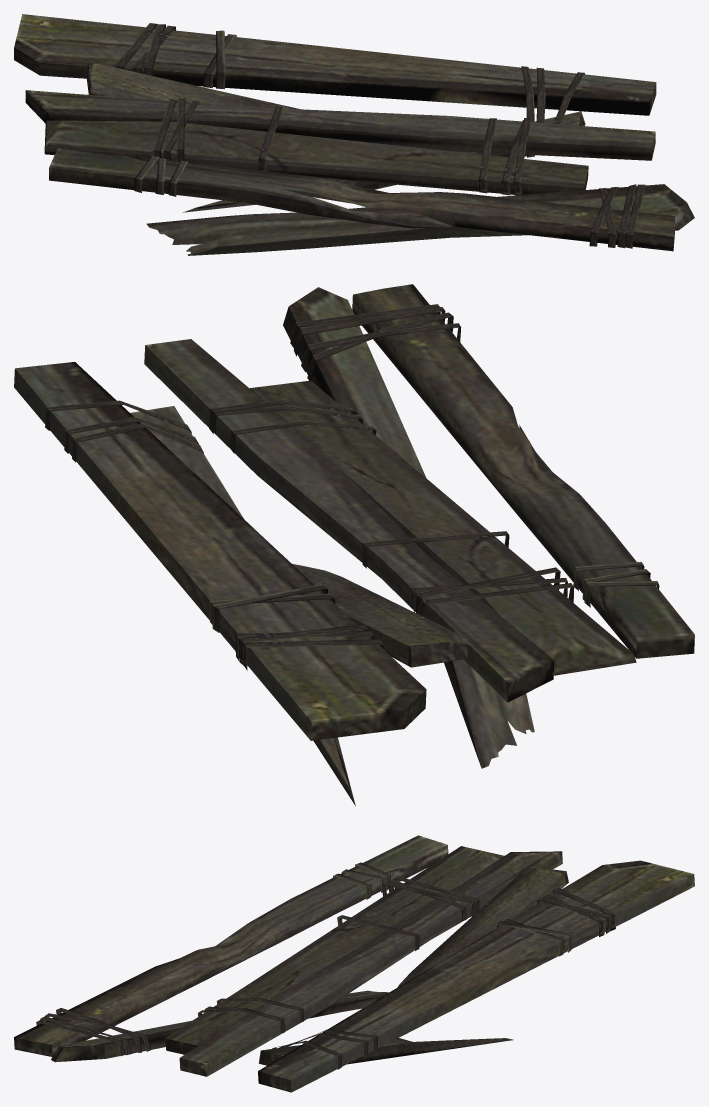
Rendered from 4007_Item_wuqi_5.FBX.
3 renders of one model, top to bottom at view 1: azimuth 30°, elevation 25°; view 2: azimuth 150°, elevation 25°; view 3: azimuth 270°, elevation 25°, orthographic. The views are drawn at different scales.
Visible parts, largest first — view 1: 4007_Item_wuqi_5; view 2: 4007_Item_wuqi_5; view 3: 4007_Item_wuqi_5.
Part boxes in pixels (x1,y1,x2,y2): 4007_Item_wuqi_5: [14, 14, 694, 255]; 4007_Item_wuqi_5: [14, 284, 694, 805]; 4007_Item_wuqi_5: [14, 835, 694, 1092].
Bounding box in the file's own units: 11427 × 2972 × 13242.
